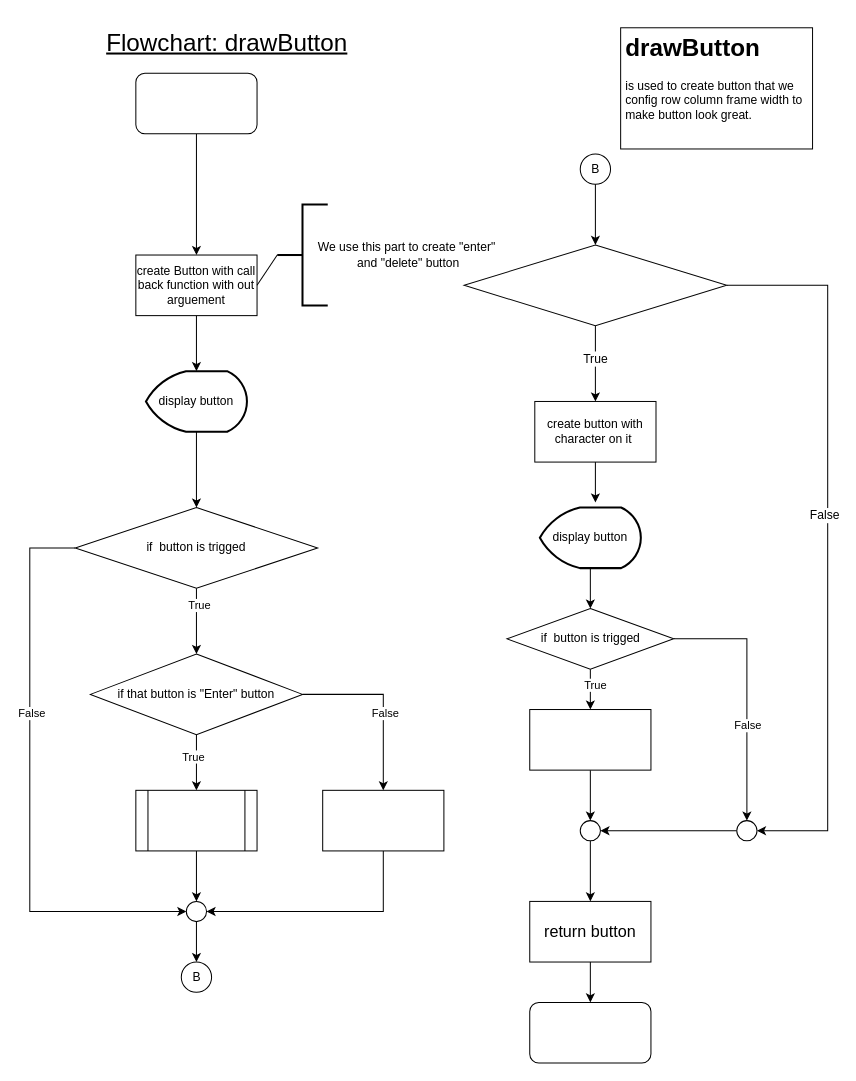
Image size: 856x1081. Some labels were removed from this diagram. Each missing label, with the centre of its shape:
"delete last index of answer (delete latest character)" goes at pixel 383 820.
"drawButton()" goes at pixel 196 103.
"End" goes at pixel 590 1032.
"if drawButton is created keyboard layout" goes at pixel 595 285.
"put that character to answer" goes at pixel 590 739.
"use function to check answer" goes at pixel 196 820.
